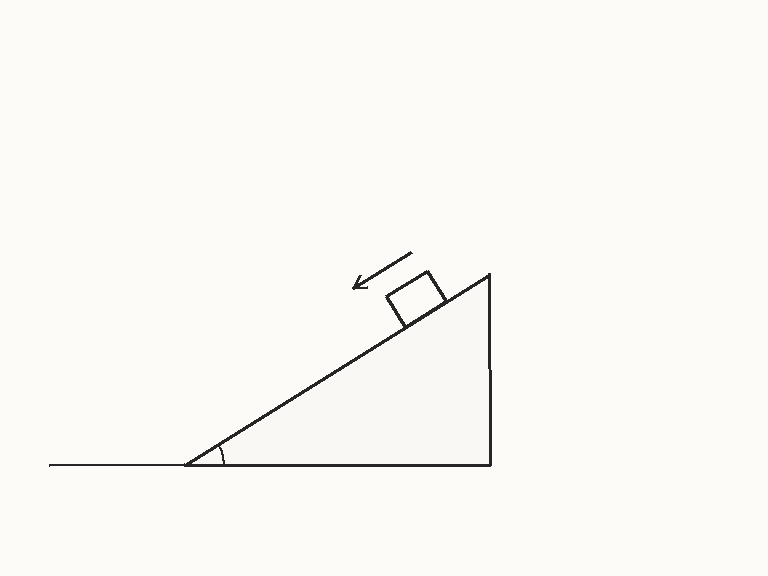block: (384, 269, 449, 329)
ramp: (182, 272, 491, 467)
